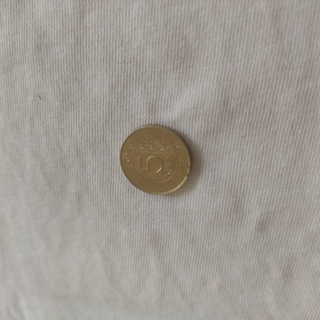5KURUS: (117, 123, 193, 197)
